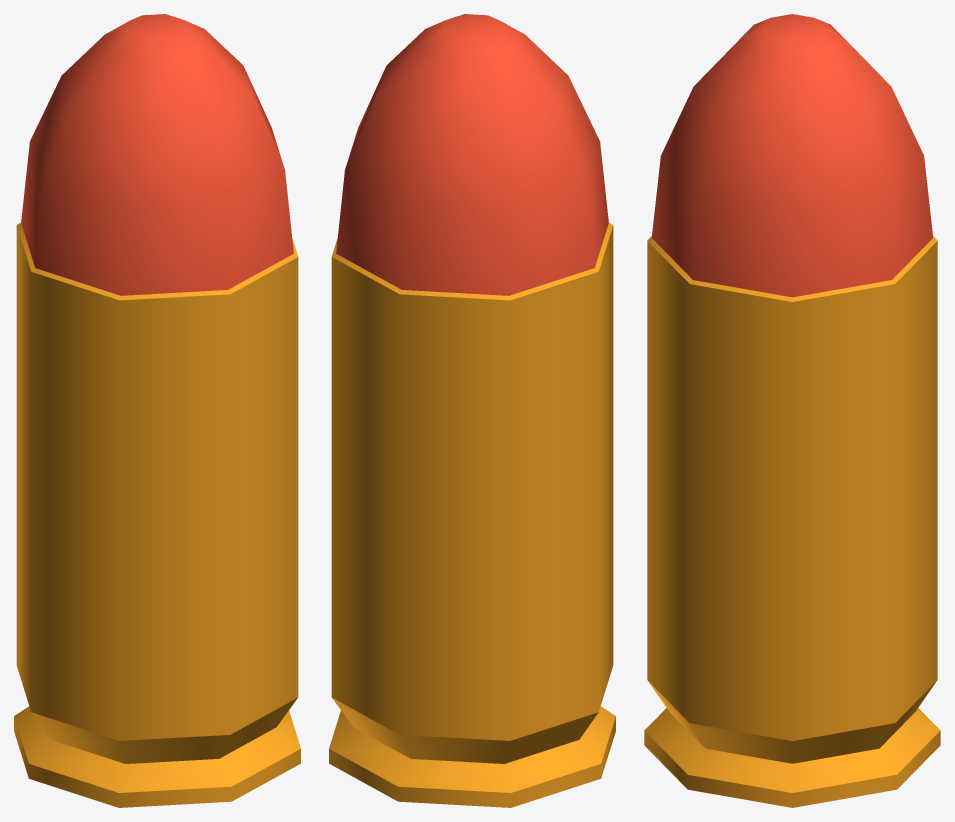
Rendered from Bullet_FBX.fbx.
3 views of the same model, side by side, from view 1: azimuth 30°, elevation 25°; view 2: azimuth 150°, elevation 25°; view 3: azimuth 270°, elevation 25° (orthographic).
Visible parts, largest first — view 1: bullet; view 2: bullet; view 3: bullet.
Part boxes in pixels (x1=…): bullet: x1=14, y1=14, x2=300, y2=807; bullet: x1=329, y1=14, x2=615, y2=807; bullet: x1=644, y1=14, x2=940, y2=807.
Bounding box in the file's own units: 0.6695 × 1.81 × 0.6695.
